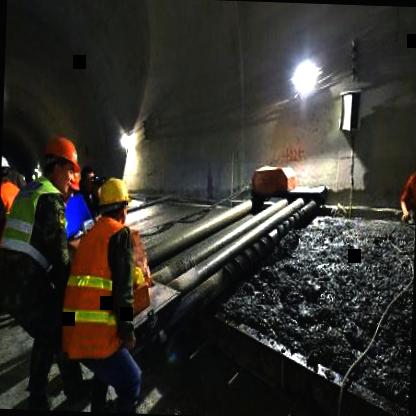helmet: (38, 135, 82, 198), (94, 176, 132, 230), (1, 146, 10, 185), (413, 144, 416, 189)
